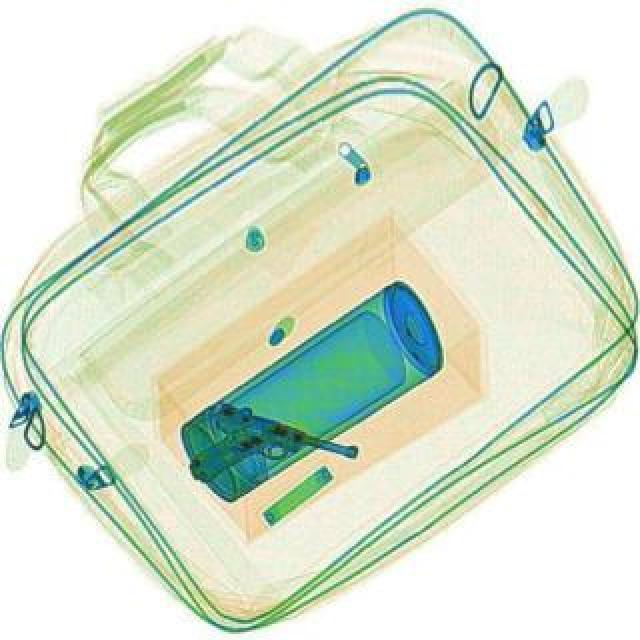gun: (184, 398, 362, 520)
